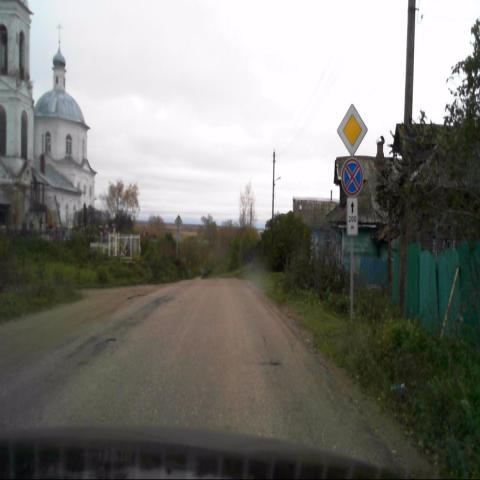3_27: (340, 160, 364, 198)
8_2_2: (346, 200, 358, 235)
